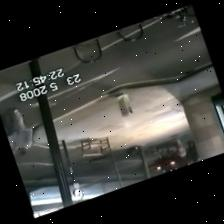person: (8, 108, 31, 155), (0, 115, 15, 153), (175, 137, 185, 158), (187, 141, 197, 161)
